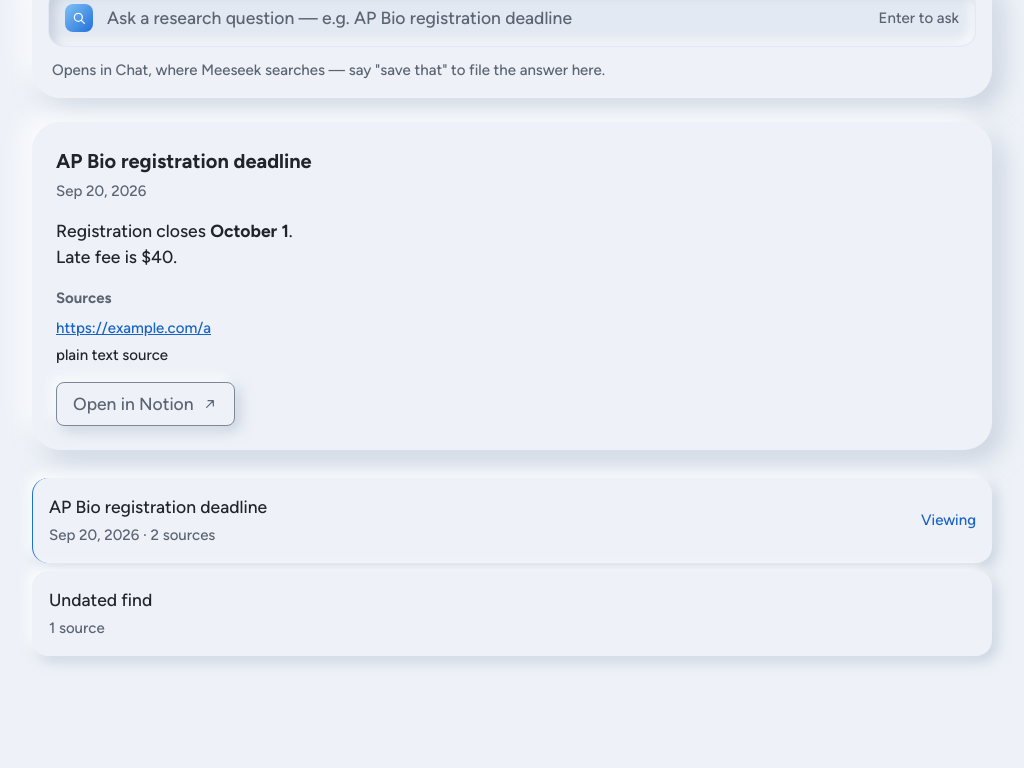
Scenario: ResearchHubPage › clicking a row opens that document in the box and marks the row (aria-current plus a visible label)
The image size is (1024, 768).
(page scrolled)
Check: the button with test id "research-row" shows "Viewing", box left=32, top=478, right=992, bottom=563
Click the button with test id "research-row": (101, 599) left=32, top=571, right=992, bottom=656
(page scrolled)
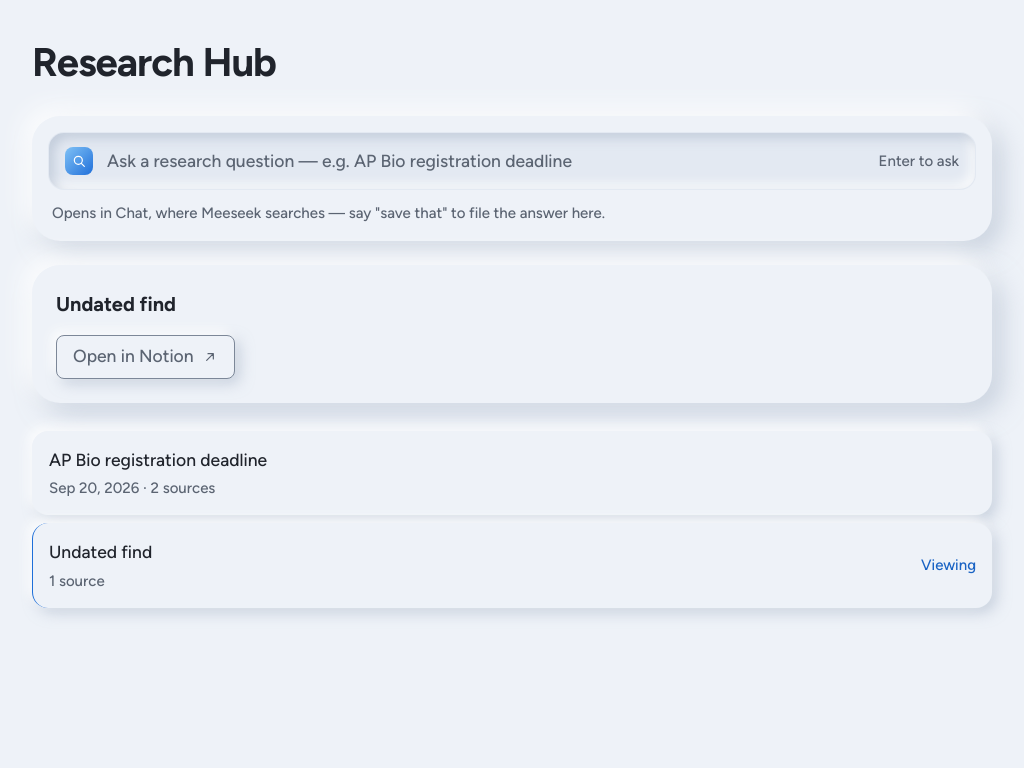
Check: the heading "Undated find" is shown, box left=56, top=292, right=176, bottom=316
